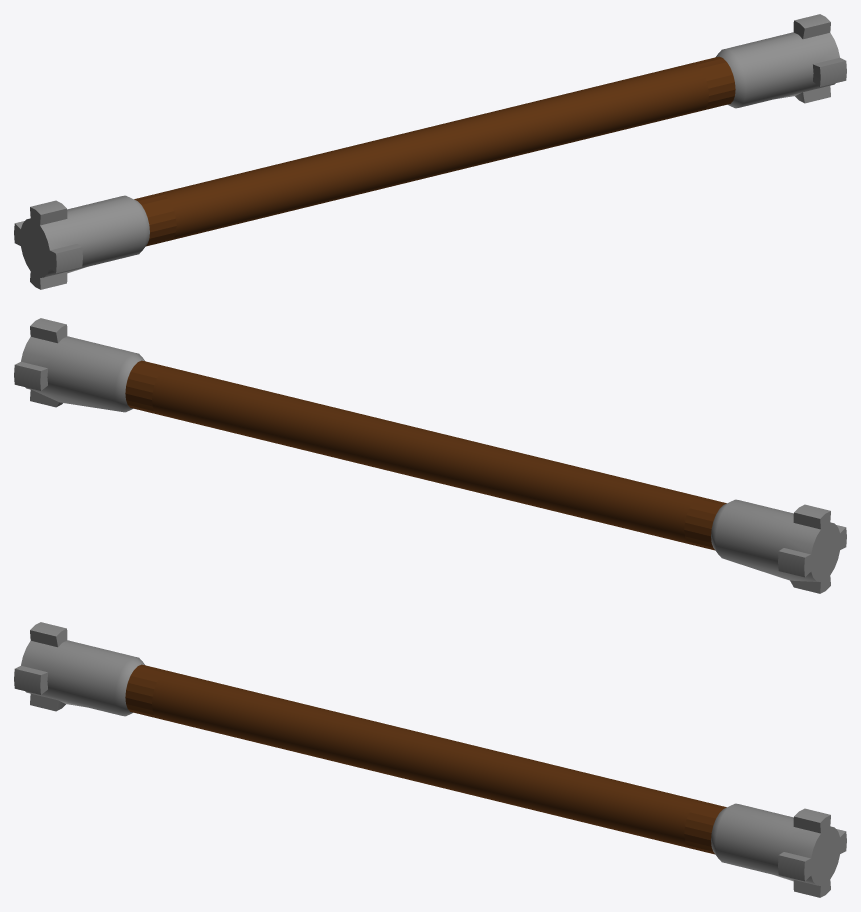
Rendered from Pipe.fbx.
3 renders of one model, top to bottom at view 1: azimuth 30°, elevation 25°; view 2: azimuth 150°, elevation 25°; view 3: azimuth 330°, elevation 25°, orthographic.
Parts seen in each view (by area): view 1: pCylinder3; view 2: pCylinder3; view 3: pCylinder3.
Part boxes in pixels (box(x1,y1,x2,y2)): pCylinder3: box(14, 14, 846, 289); pCylinder3: box(14, 318, 846, 593); pCylinder3: box(14, 622, 846, 897).
Size of the model in its own units: 1485 by 139 by 139.
1 material, 1 textured.
